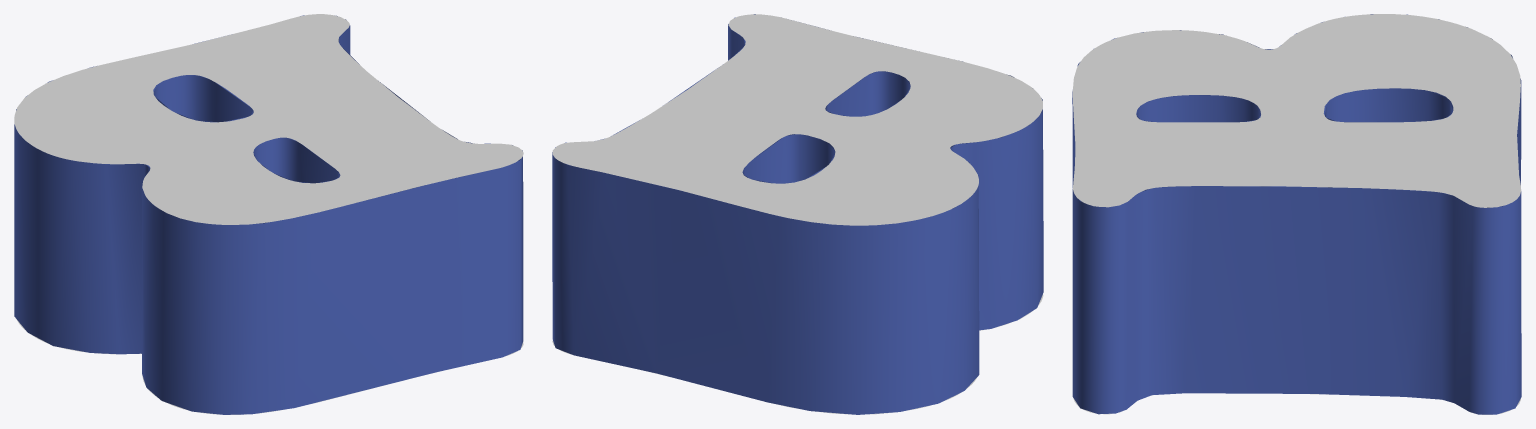
The picture shows the model from 3 angles, left to right: view 1: azimuth 30°, elevation 25°; view 2: azimuth 150°, elevation 25°; view 3: azimuth 270°, elevation 25°; orthographic projection. The views are drawn at different scales.
Visible parts, largest first — view 1: B; view 2: B; view 3: B.
Part boxes in pixels (<box>): B: <box>14,14,523,414</box>; B: <box>552,14,1043,414</box>; B: <box>1072,14,1521,414</box>.
Size of the model in its own units: 1.48 by 0.736 by 1.45.
